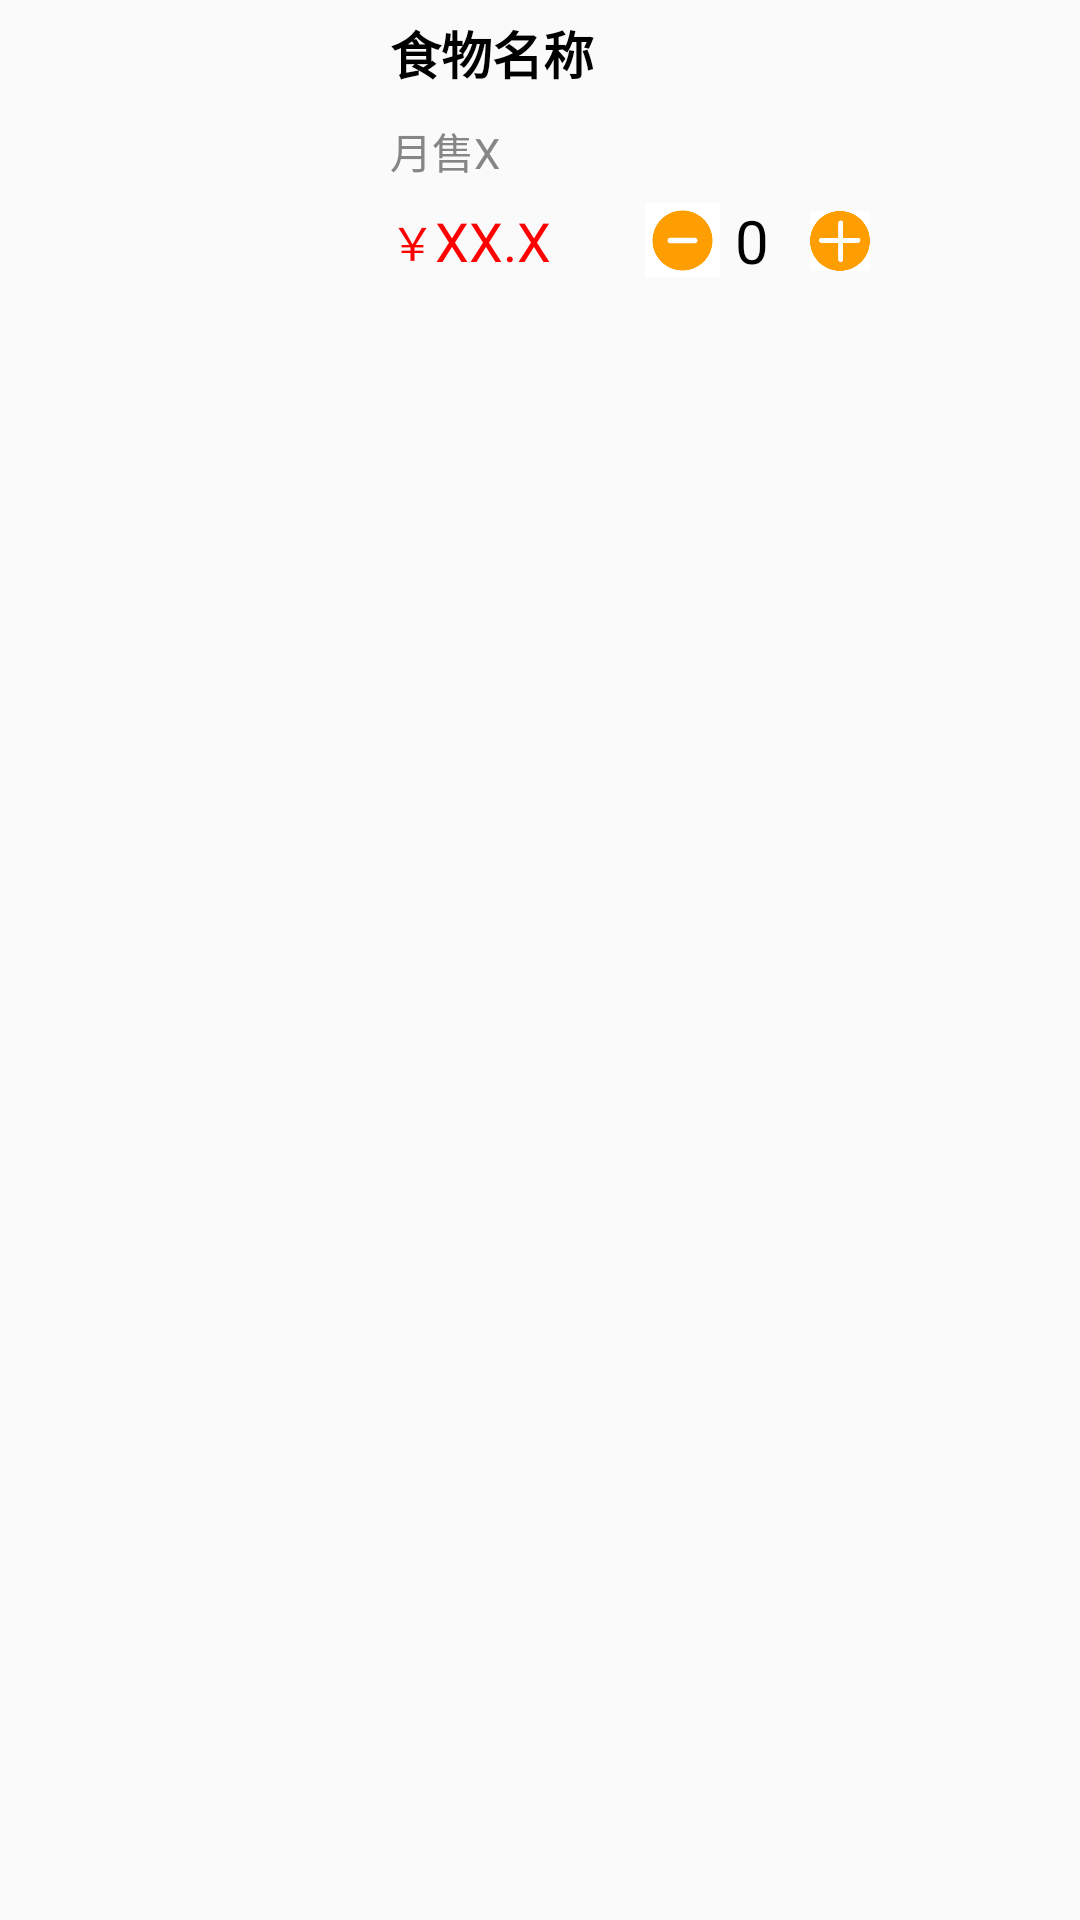

Where icons sit on this 1080px x 1920px app screen, as (x1=x1, y1=y1, x2=x2, y2=y2):
add: (x1=810, y1=211, x2=870, y2=271)
remove: (x1=652, y1=210, x2=713, y2=271)
